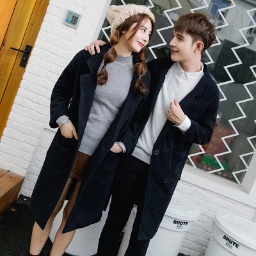face: (113, 10, 154, 71), (171, 12, 216, 65)
